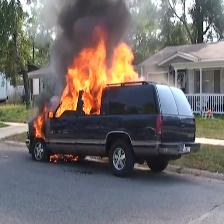fire: (65, 45, 139, 111)
smoke: (69, 0, 129, 44)
